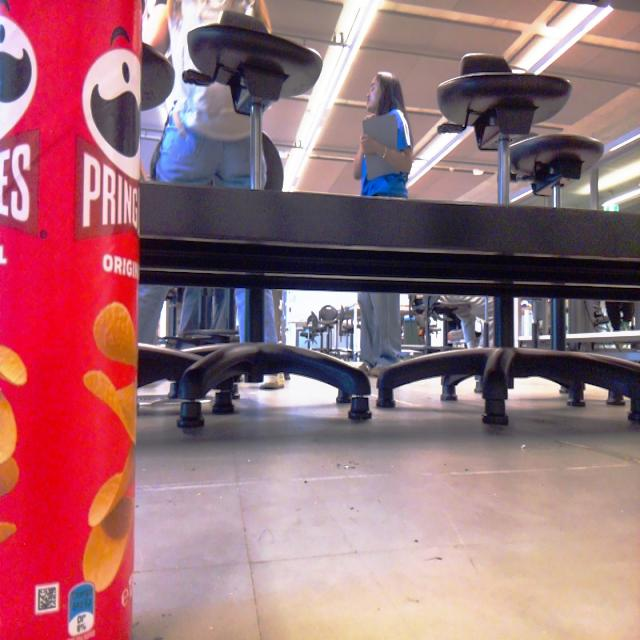redpringles: (0, 0, 179, 640)
